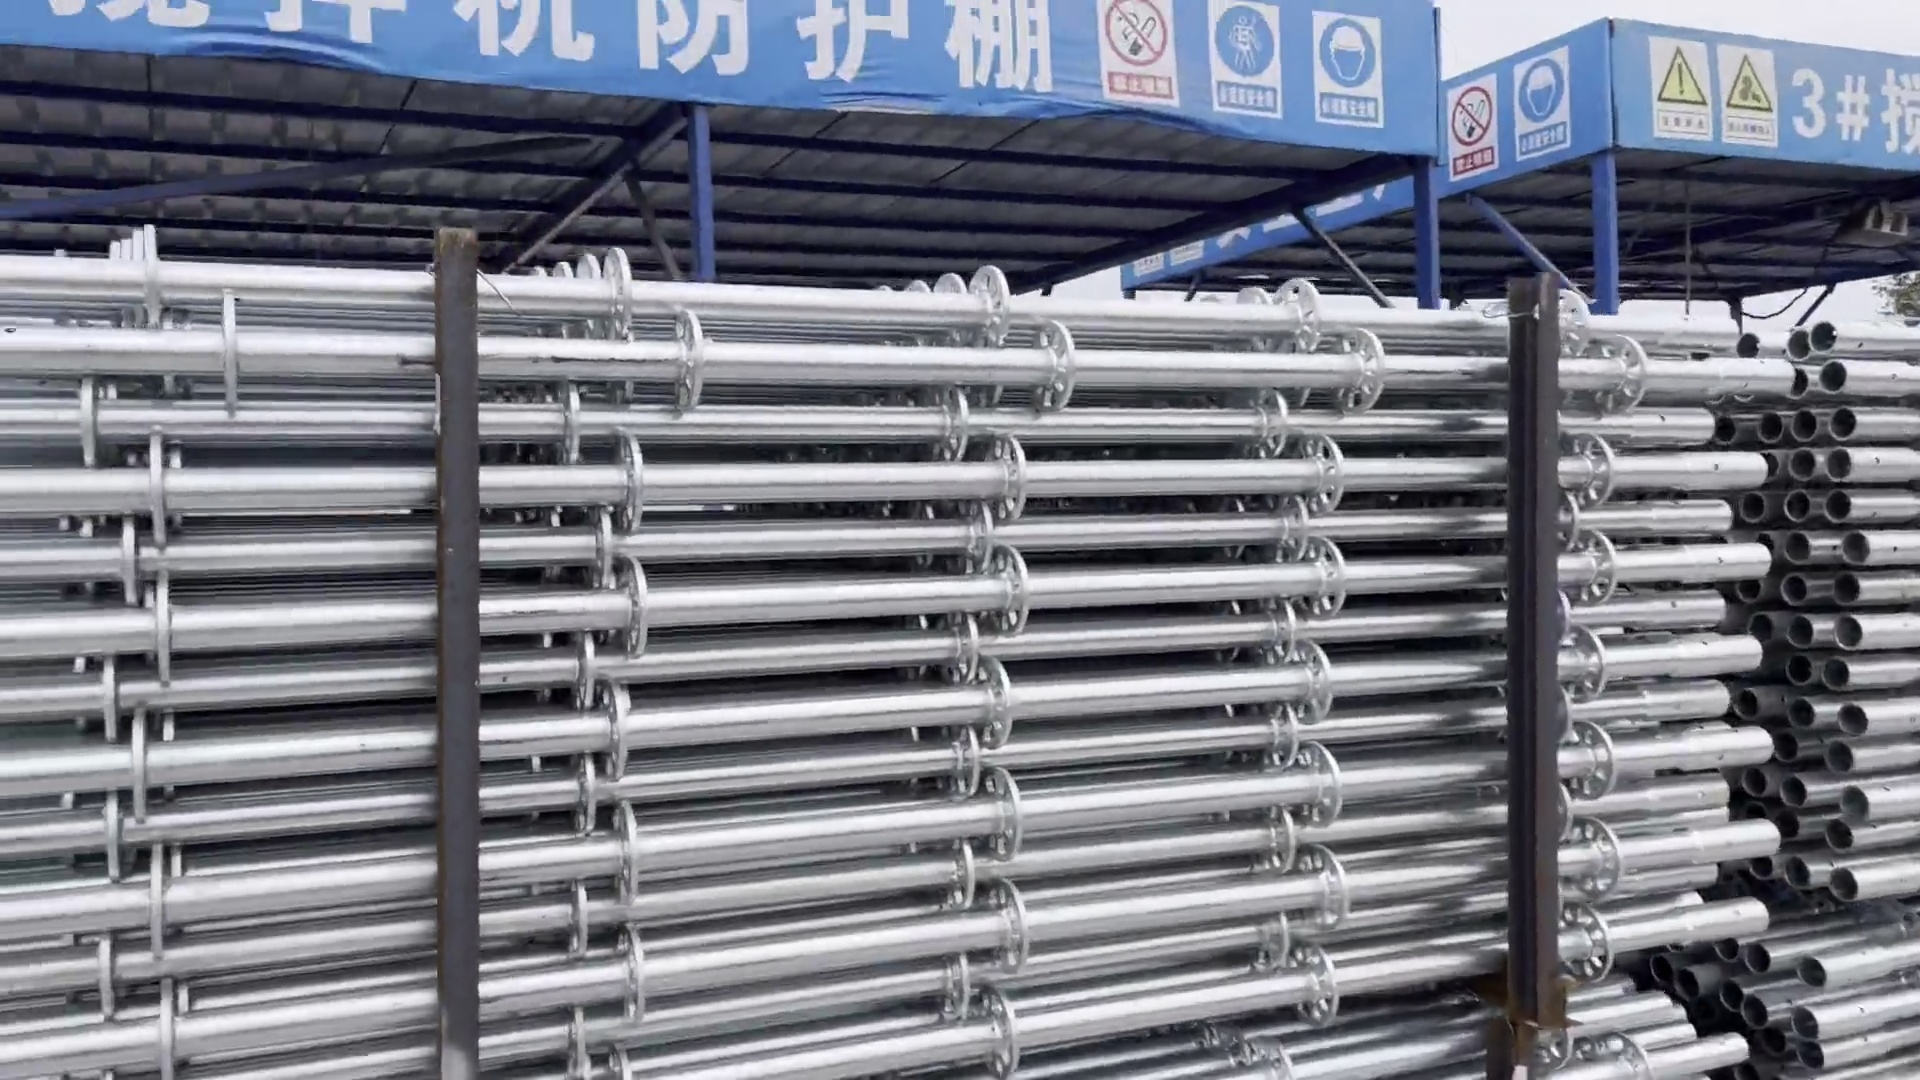scaffold: (1, 247, 1791, 1071), (1691, 272, 1920, 899), (1663, 926, 1920, 1075)
